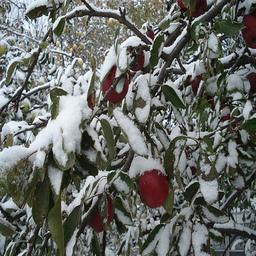apple: (137, 170, 169, 209), (87, 195, 114, 231), (101, 65, 128, 101)
